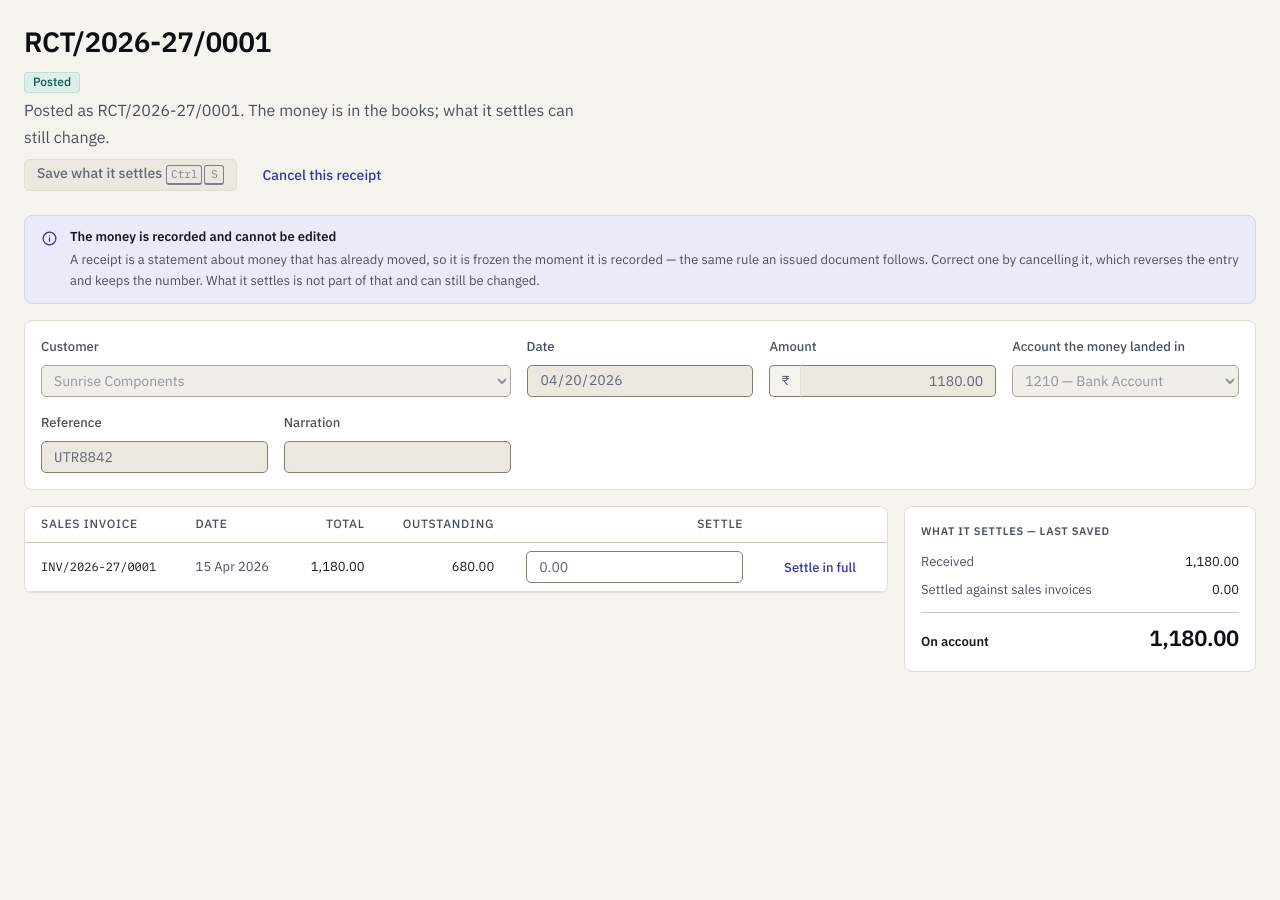
Scenario: what it settles › settles one in full with exactly the figure main sent
Click the button "Settle in full": point(820, 567) x1=775 y1=554 x2=865 y2=580
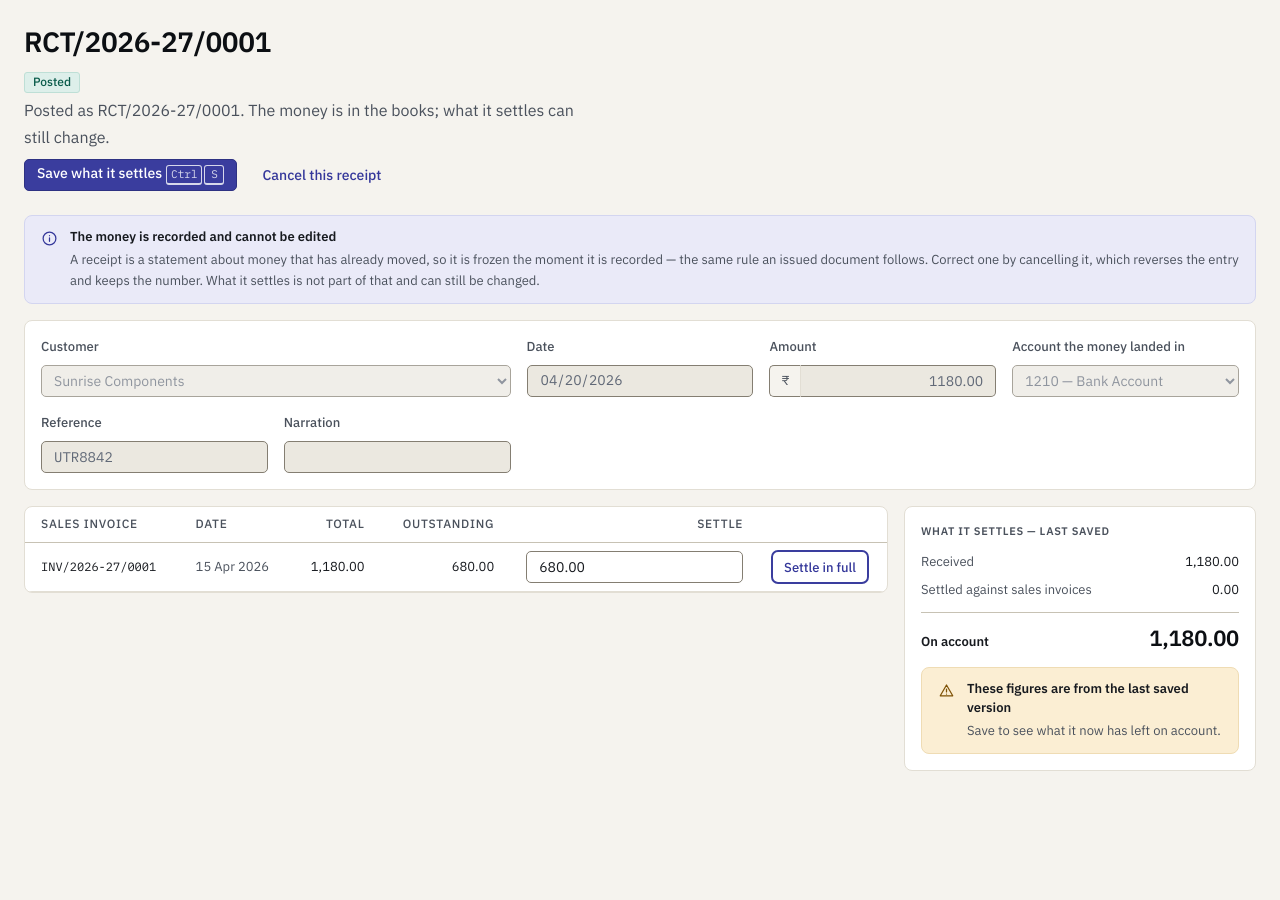
Result: the field named "Settle against INV/2026-27/0001" holds "680.00" at x1=526 y1=551 x2=743 y2=583
